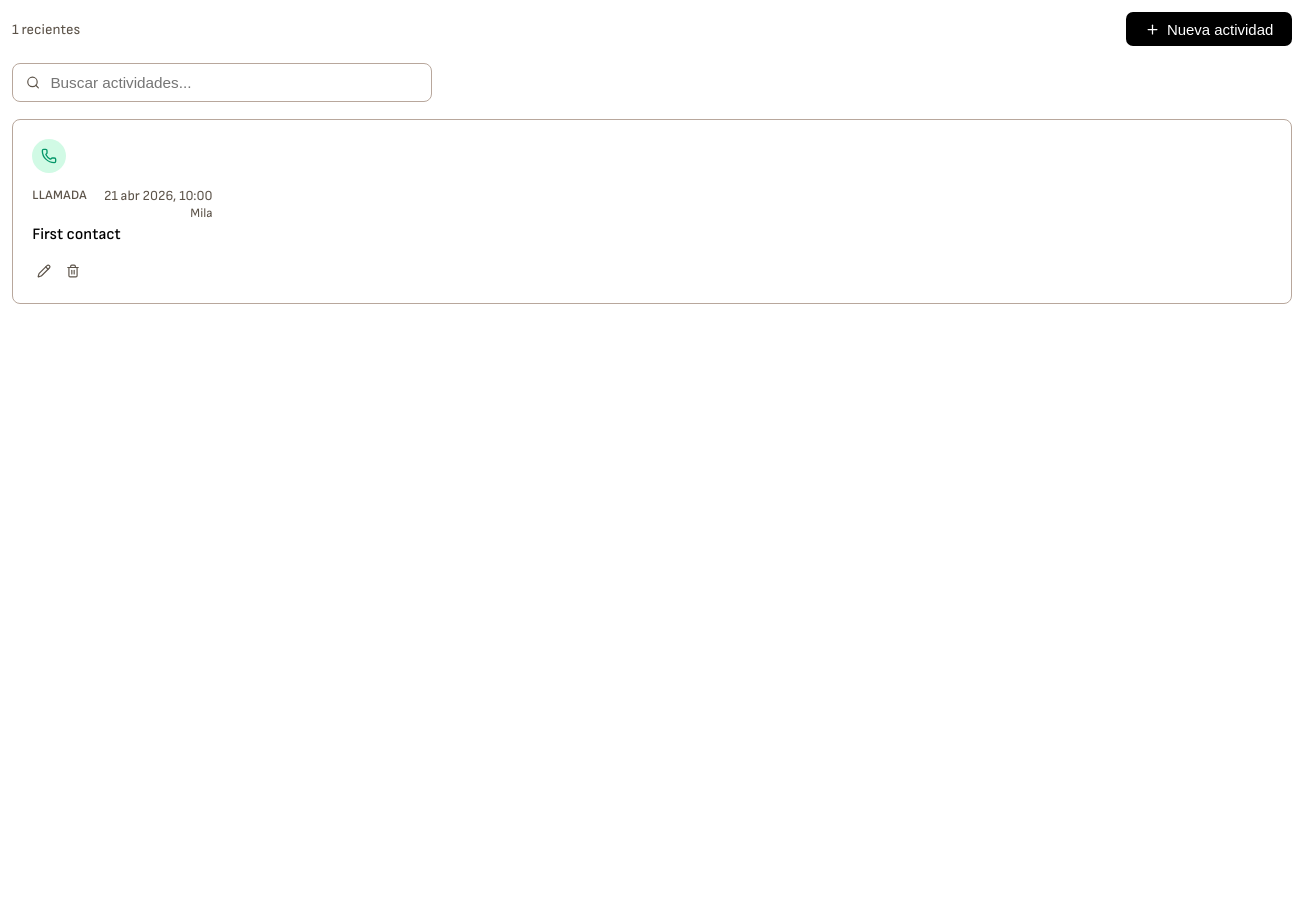
ActivityTab — shared behaviour › shows edit form pre-filled
Check: the text "First contact" is shown, box top-left (32, 225), bottom-right (121, 244)
Click the button titled "Editar" at (44, 273), box top-left (32, 259), bottom-right (56, 286)
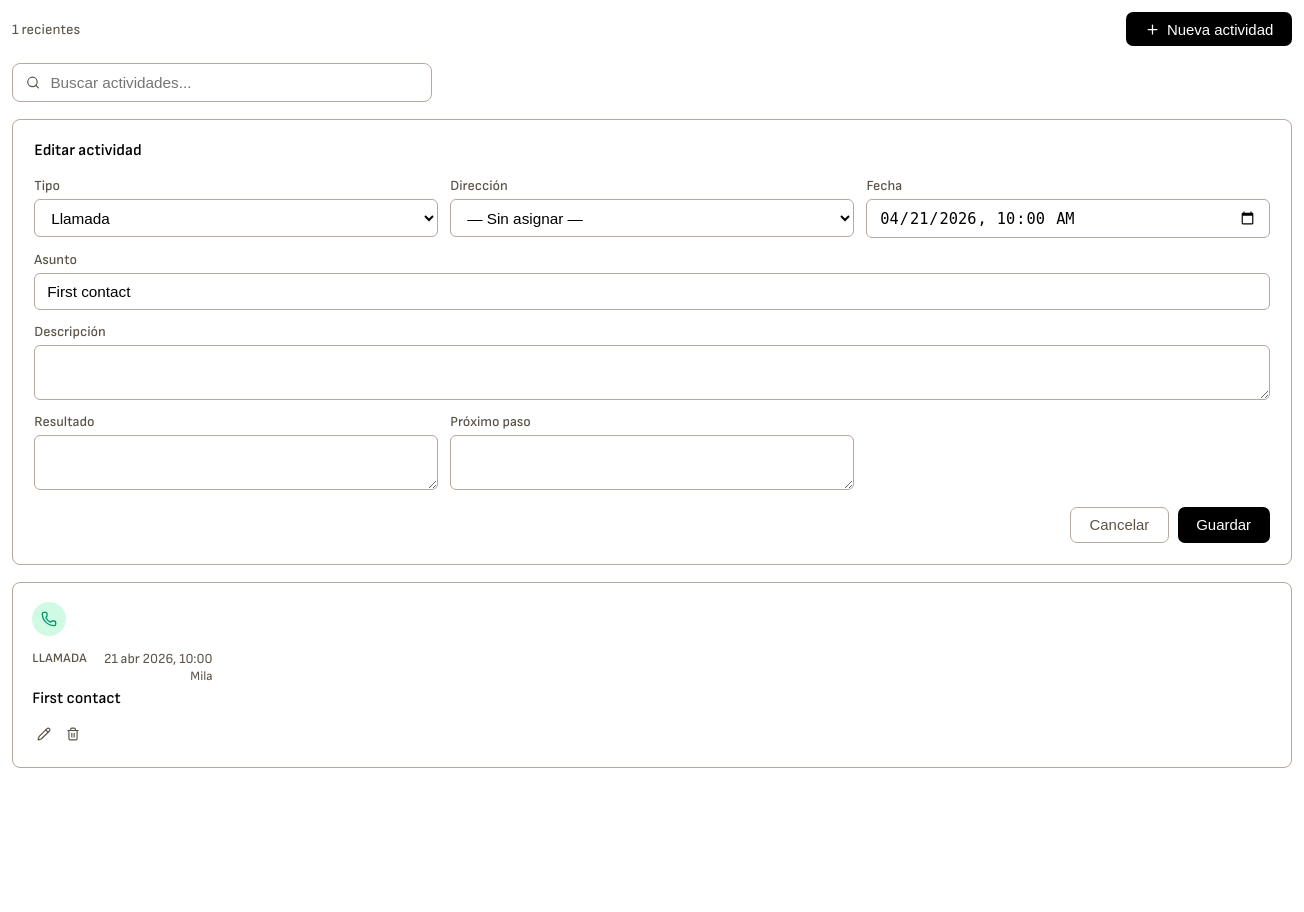
Check: the field labelled "Asunto" holds "First contact", box top-left (34, 273), bottom-right (1270, 310)
